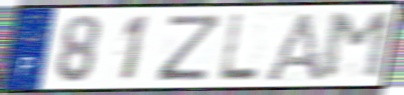1: (115, 13, 152, 84)
8: (55, 13, 104, 85)
A: (260, 10, 328, 84)
L: (215, 12, 262, 83)
M: (319, 10, 394, 83)
Z: (155, 12, 226, 83)
